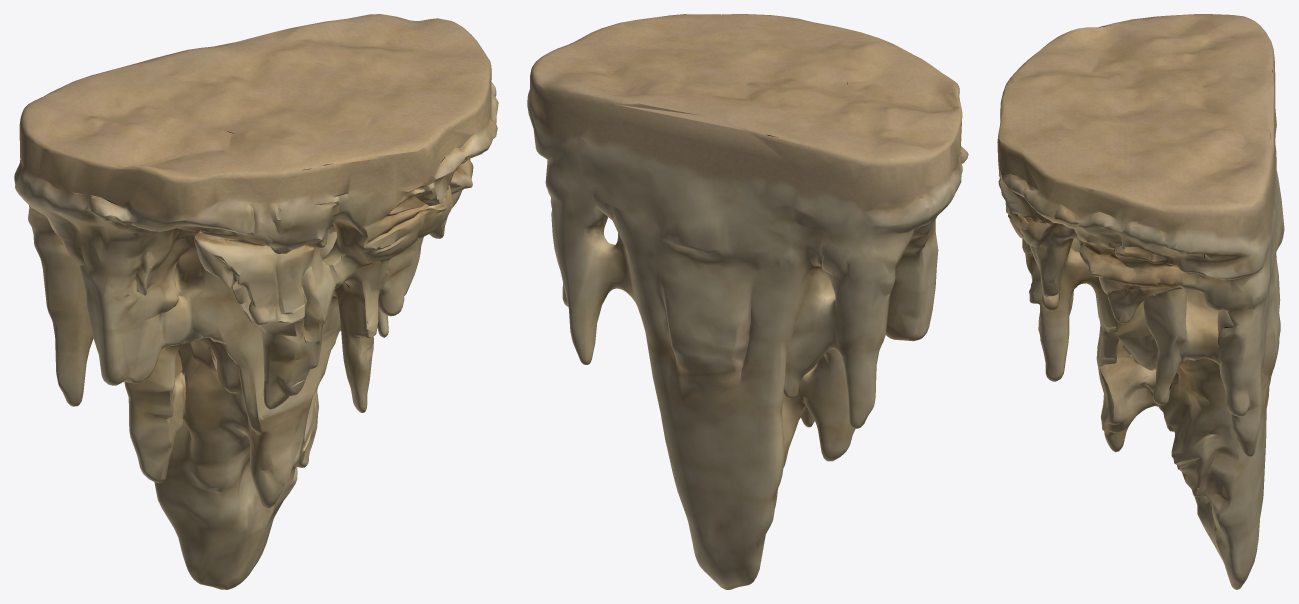
The model's file is isle_float.glb.
3 renders of one model, left to right at view 1: azimuth 30°, elevation 25°; view 2: azimuth 150°, elevation 25°; view 3: azimuth 270°, elevation 25°, orthographic. The views are drawn at different scales.
Parts seen in each view (by area): view 1: isle_float; view 2: isle_float; view 3: isle_float.
Boxes of the visible parts, x1=… form: isle_float: x1=14, y1=14, x2=498, y2=589; isle_float: x1=527, y1=14, x2=968, y2=589; isle_float: x1=997, y1=14, x2=1284, y2=589.
Size of the model in its own units: 0.8869 by 1 by 0.529.
1 material, 1 textured.
